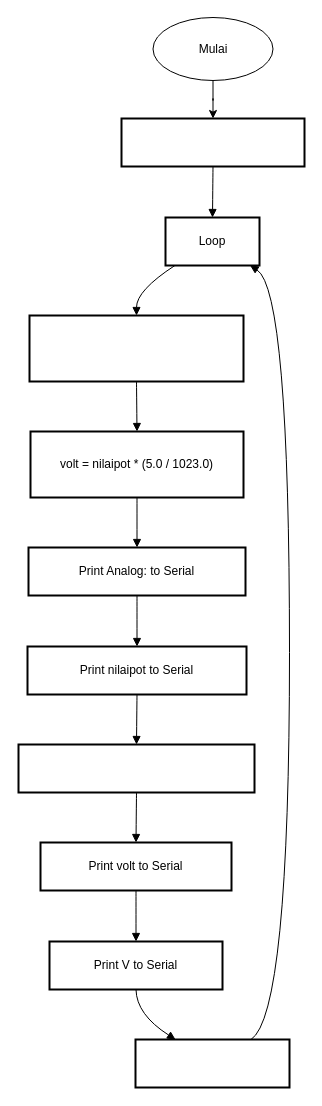
The diagram is 322 pixels wide and 1106 high, and some of its shapes have lost their labels. The centre of each missing label's shape, as x and y in pixels:
"Delay 500 ms" goes at pixel 212 1063.
"nilaipot = analogRead (pinpot)" goes at pixel 136 348.
"Print Tegangan: to Serial" goes at pixel 136 768.
"Serial begin (9600)" goes at pixel 212 142.
